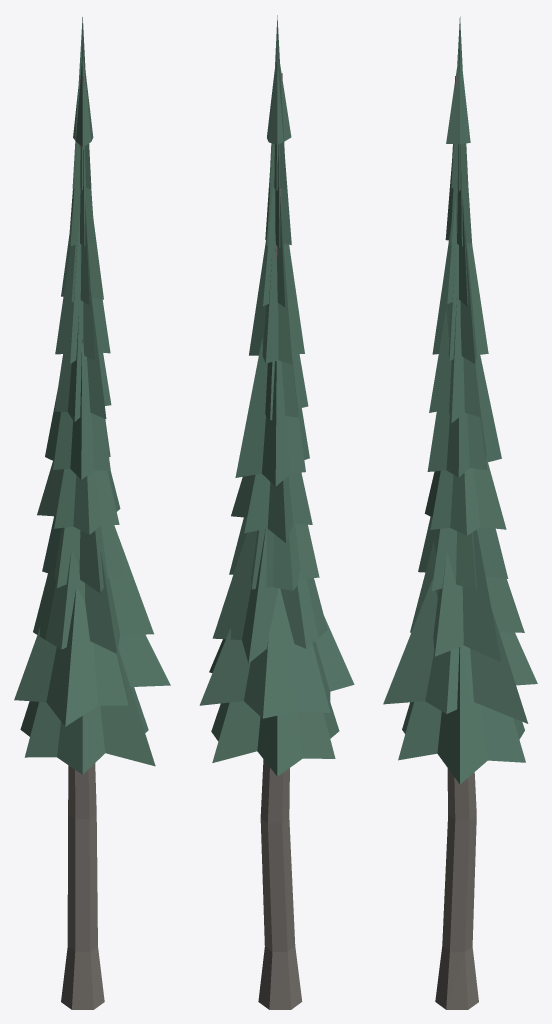
Rendered from dense-temperate-forest-flora-spruce-old-eb00d275__28349.glb.
3 renders of one model, left to right at view 1: azimuth 30°, elevation 25°; view 2: azimuth 150°, elevation 25°; view 3: azimuth 330°, elevation 25°, orthographic.
Parts seen in each view (by area): view 1: spruce-old; view 2: spruce-old; view 3: spruce-old.
Part boxes in pixels (x1,y1,x2,y2): spruce-old: [14, 17, 170, 1009]; spruce-old: [199, 15, 354, 1009]; spruce-old: [383, 16, 537, 1009].
Bounding box in the file's own units: 3.46 × 23.43 × 3.04.
